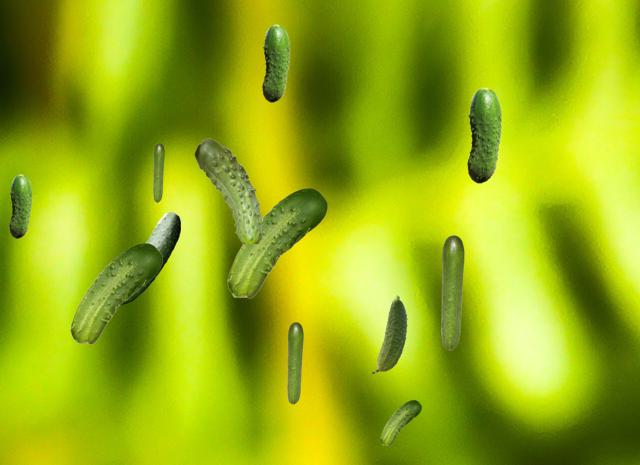cucumber: (227, 188, 326, 297), (70, 243, 161, 343), (194, 138, 262, 242), (123, 212, 179, 303), (467, 87, 501, 182), (372, 295, 406, 372), (441, 235, 463, 349), (262, 24, 289, 101), (380, 400, 420, 444), (9, 174, 31, 237), (287, 322, 302, 403), (153, 143, 163, 201)
